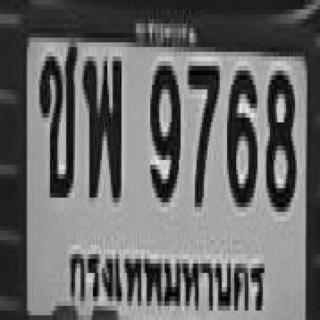A10: (38, 42, 75, 193)
A30: (82, 52, 120, 198)
N06: (225, 66, 256, 202)
N07: (186, 61, 218, 202)
N08: (265, 66, 293, 207)
N09: (148, 61, 179, 198)
P04: (66, 238, 267, 318)
